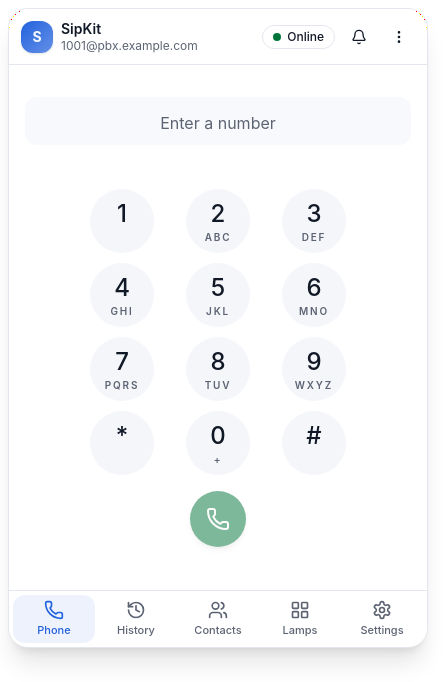
Scenario: BLF panel and presence lamps › shows lamps with text, calls on click and picks up a ringing extension
The image size is (445, 682).
Later steps or results of the test are not shown.
Step 1. Click the tab "Lamps" → (300,619), box [259,595,341,643]
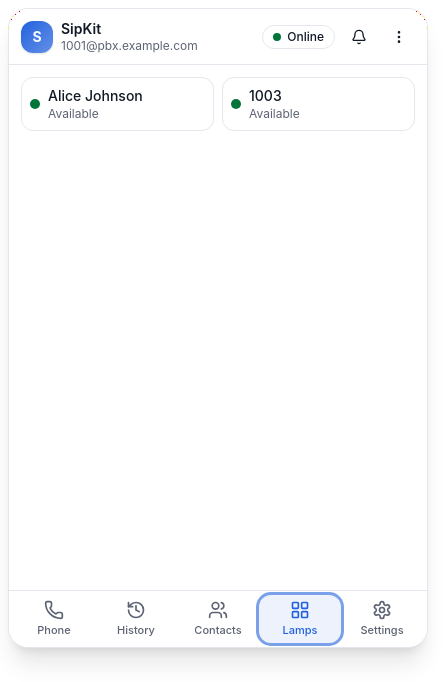
expect the text "Alice Johnson" is shown: met, box [48,87,143,104]
expect the 1st text "Available" is shown: met, box [48,106,99,121]
